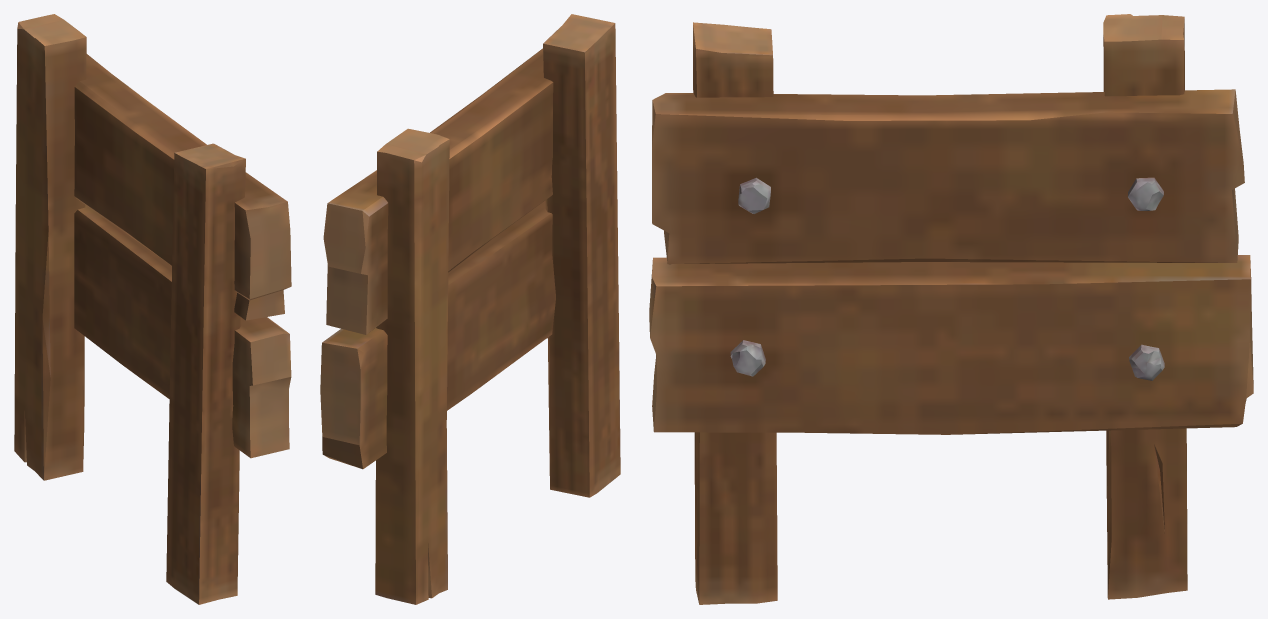
Rendered from WeiLan.fbx.
3 views of the same model, side by side, from view 1: azimuth 30°, elevation 25°; view 2: azimuth 150°, elevation 25°; view 3: azimuth 270°, elevation 25° (orthographic). The views are drawn at different scales.
Parts seen in each view (by area): view 1: WeiLan; view 2: WeiLan; view 3: WeiLan.
Part boxes in pixels (x1,y1,x2,y2): WeiLan: [14, 14, 291, 604]; WeiLan: [320, 14, 620, 604]; WeiLan: [649, 14, 1253, 604].
Bounding box in the file's own units: 21.7 × 100 × 96.22.
